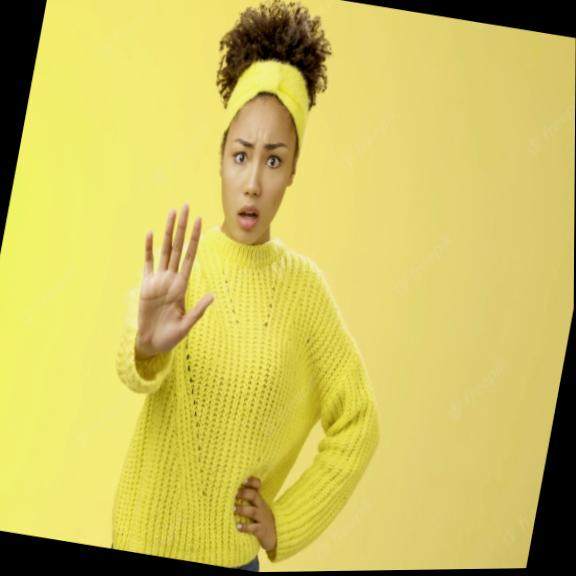no_safety_vest: (88, 222, 353, 575)
